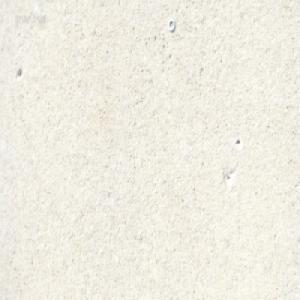Washer: (167, 17, 175, 32)
